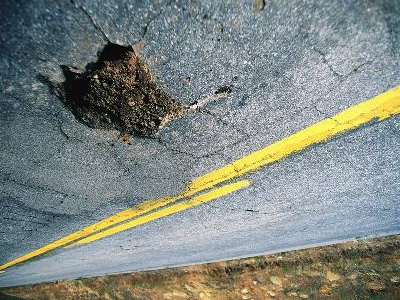pothole: (33, 37, 192, 143)
